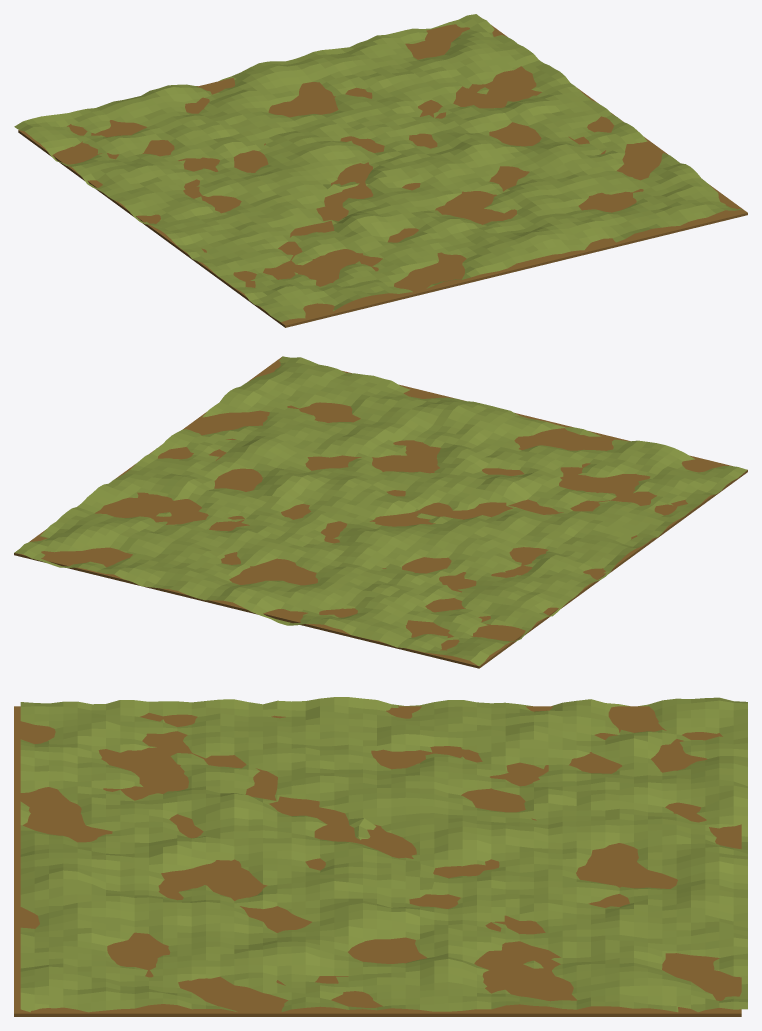
The model's file is ground.fbx.
The picture shows the model from 3 angles, top to bottom: view 1: azimuth 30°, elevation 25°; view 2: azimuth 150°, elevation 25°; view 3: azimuth 270°, elevation 25°; orthographic projection. The views are drawn at different scales.
Parts seen in each view (by area): view 1: ground 2, ground 1; view 2: ground 2, ground 1; view 3: ground 2, ground 1.
Part boxes in pixels (left/top/right/bottom): ground 2: left=14, top=14, right=742, bottom=321; ground 1: left=18, top=24, right=747, bottom=327; ground 2: left=14, top=356, right=747, bottom=665; ground 1: left=14, top=357, right=747, bottom=668; ground 2: left=20, top=697, right=747, bottom=1012; ground 1: left=14, top=706, right=741, bottom=1016.
Size of the model in its own units: 11983 by 429 by 12033.
